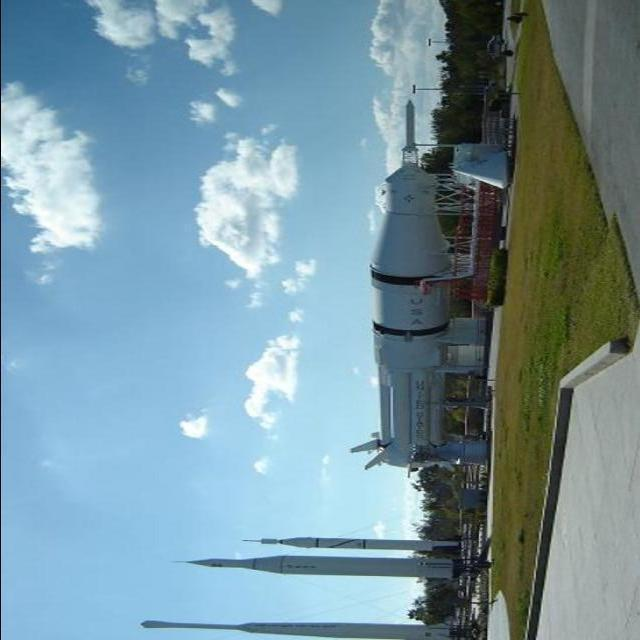missile: (344, 96, 490, 476), (134, 604, 483, 640), (168, 550, 472, 581), (243, 528, 474, 552)
